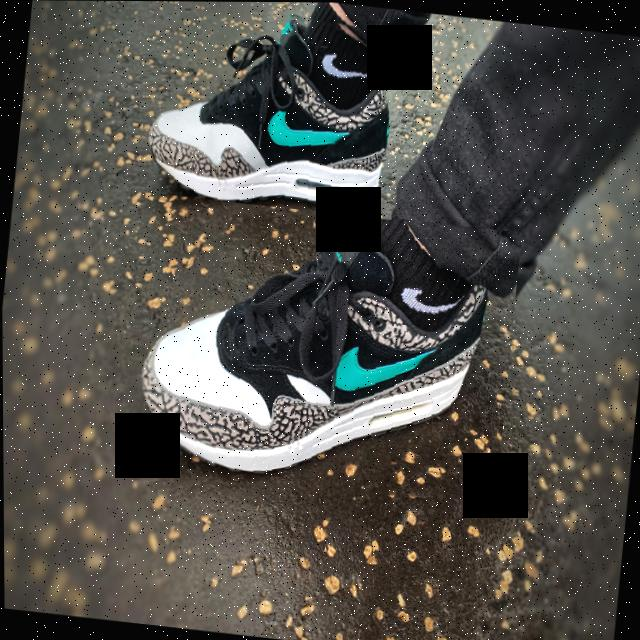shoe: (115, 190, 523, 520), (130, 1, 410, 219)
